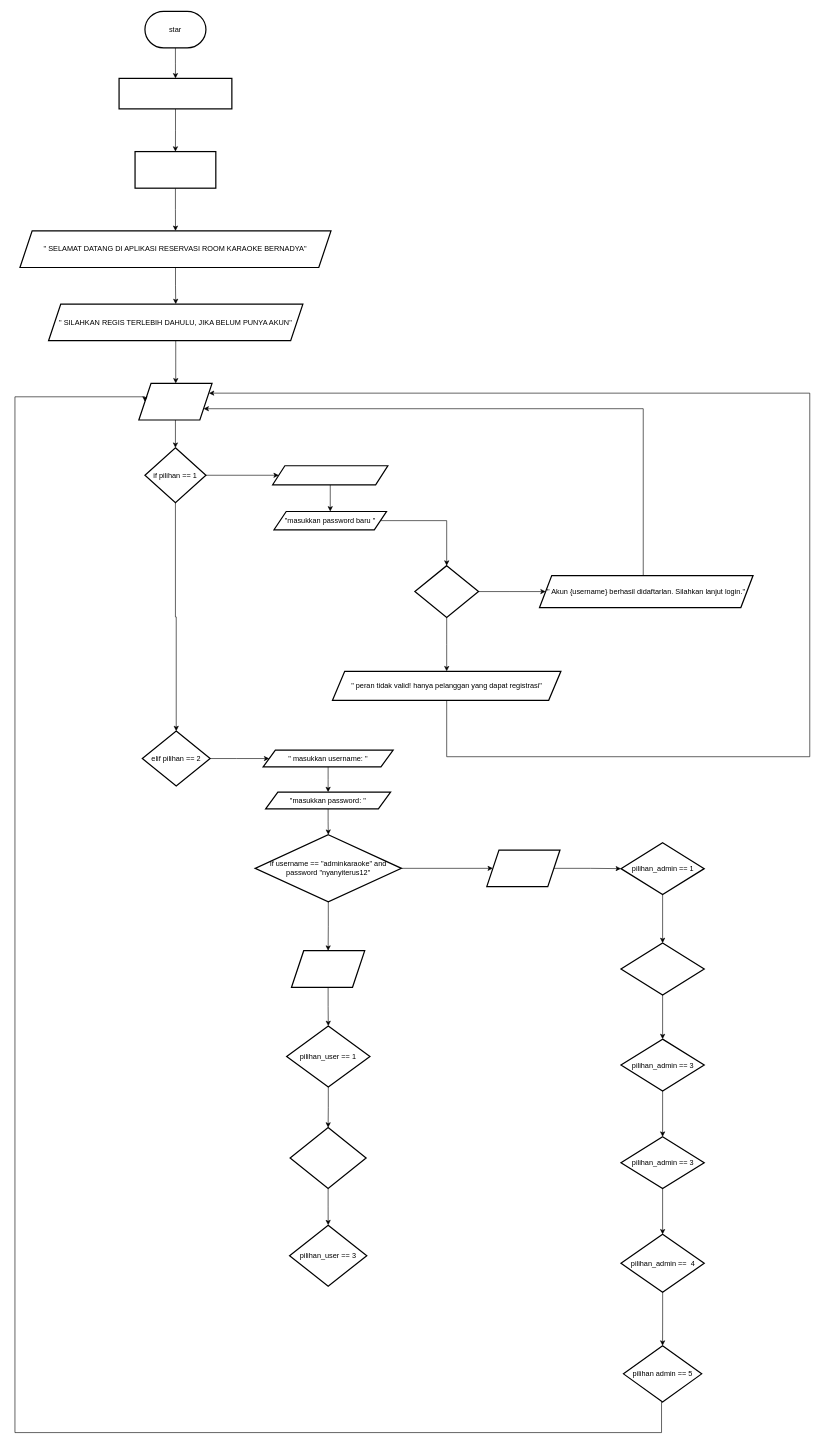
The diagram is 825 pixels wide and 1448 high, and some of its shapes have lost their labels. The centre of each missing label's shape, as x and y in pixels:
"masukkan username baru: ": [330,475]
if peran == "pelanggan": [446,591]
menu admin: [523,868]
menu pelanggan: [328,969]
menu regis: [175,401]
pengguna = [[adminkaraoke, nyanyiterus12, admin]]: [175,93]
pilihan_admin == 2: [662,968]
pilihan_user == 2: [327,1158]
reservasi_karaoke =[ ]: [175,169]
